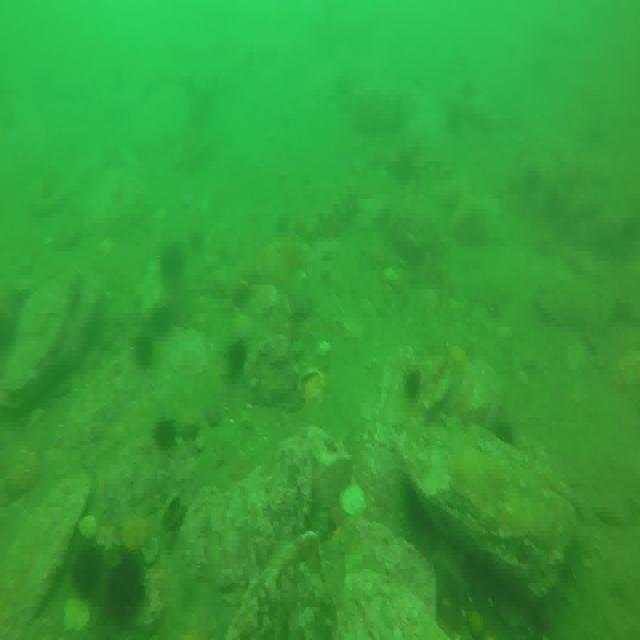echinus: (104, 553, 147, 617), (72, 544, 105, 591), (403, 364, 424, 406), (164, 242, 186, 280), (152, 417, 178, 449), (229, 337, 249, 372), (136, 334, 157, 367), (150, 302, 169, 337)
holothurian: (314, 192, 360, 238)
